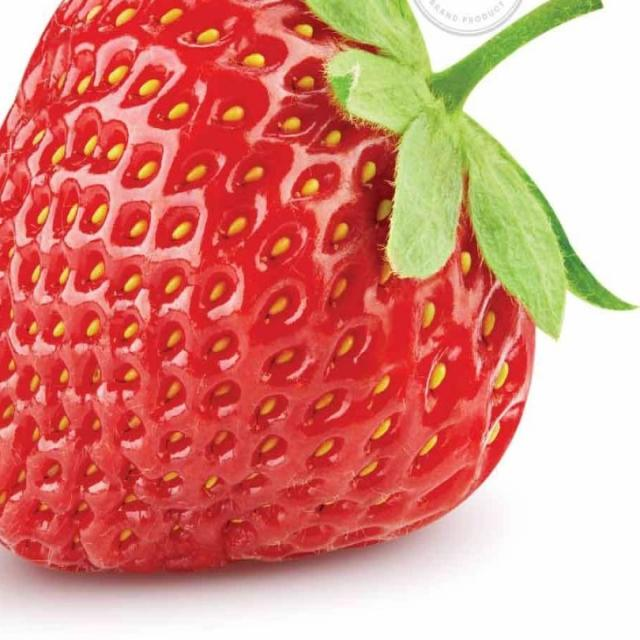strawberry: (0, 0, 629, 594)
